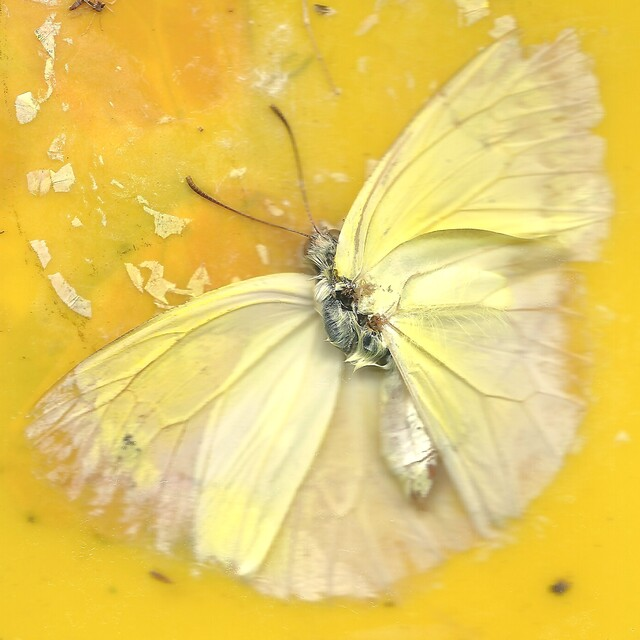Lepidoptera: (26, 27, 614, 613)
